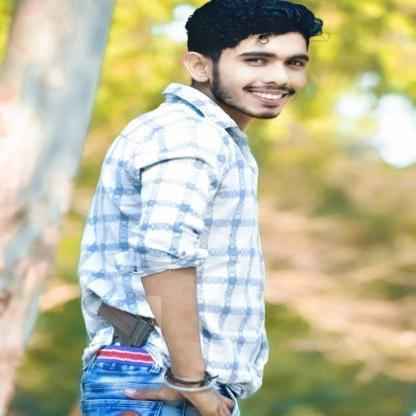handgun: (86, 297, 162, 383)
